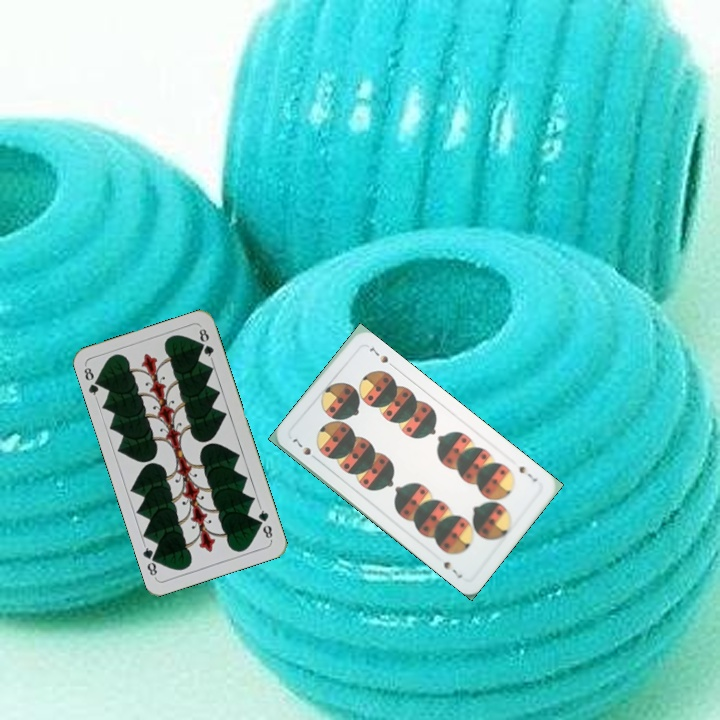G8: (80, 363, 104, 402), (254, 503, 275, 543)
S7: (288, 434, 322, 464), (515, 462, 540, 485)
